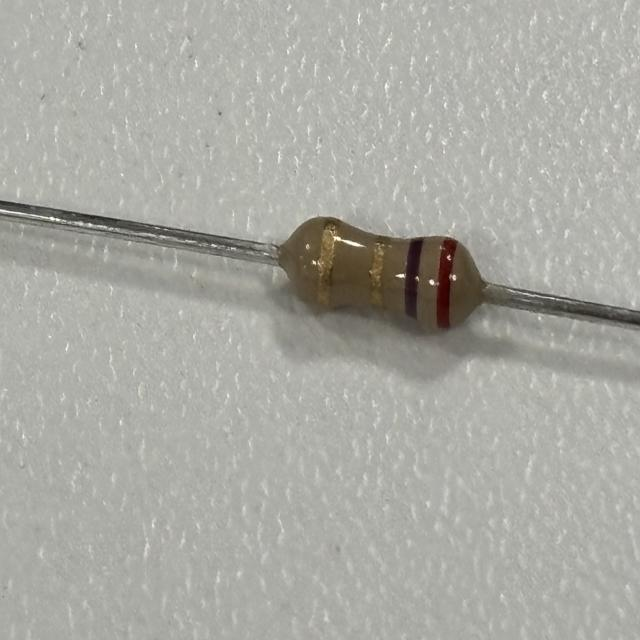resistor: (291, 211, 476, 336)
